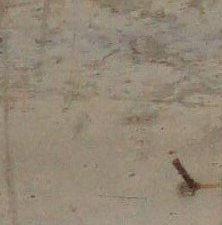Exposed reinforcement: (172, 158, 196, 189)
